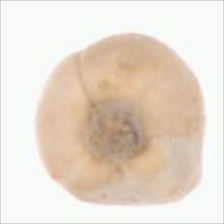L4: (34, 33, 206, 205)
